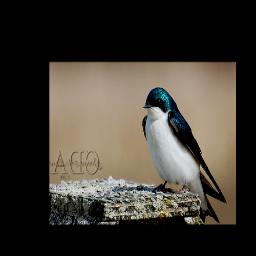Swallow: (142, 87, 227, 224)
